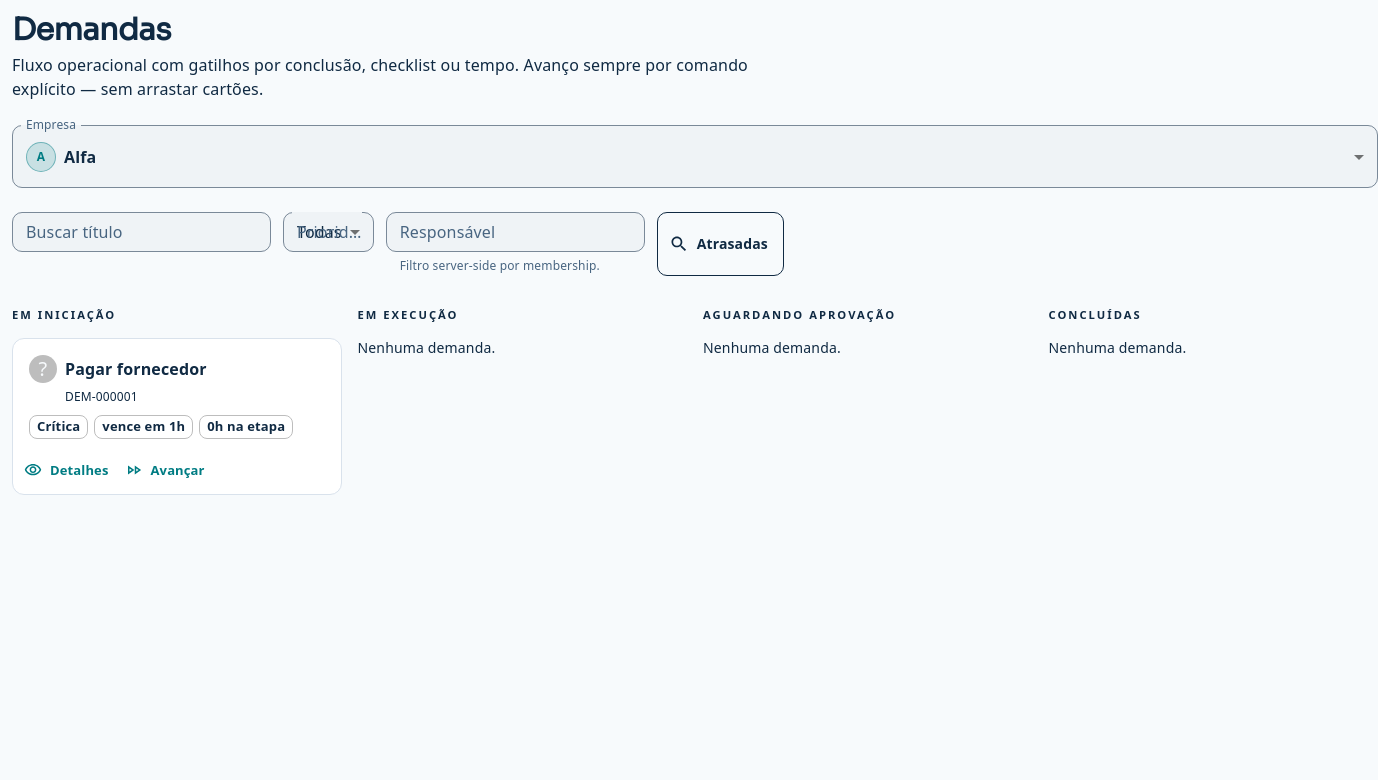
Test: DemandasPage › applies the full conflict snapshot so the card moves to the server stage
Expected: the heading "Pagar fornecedor" is shown, [65,358,207,380]
Step 1. Click the button "Avançar" → point(166, 470), box [122,455,210,486]
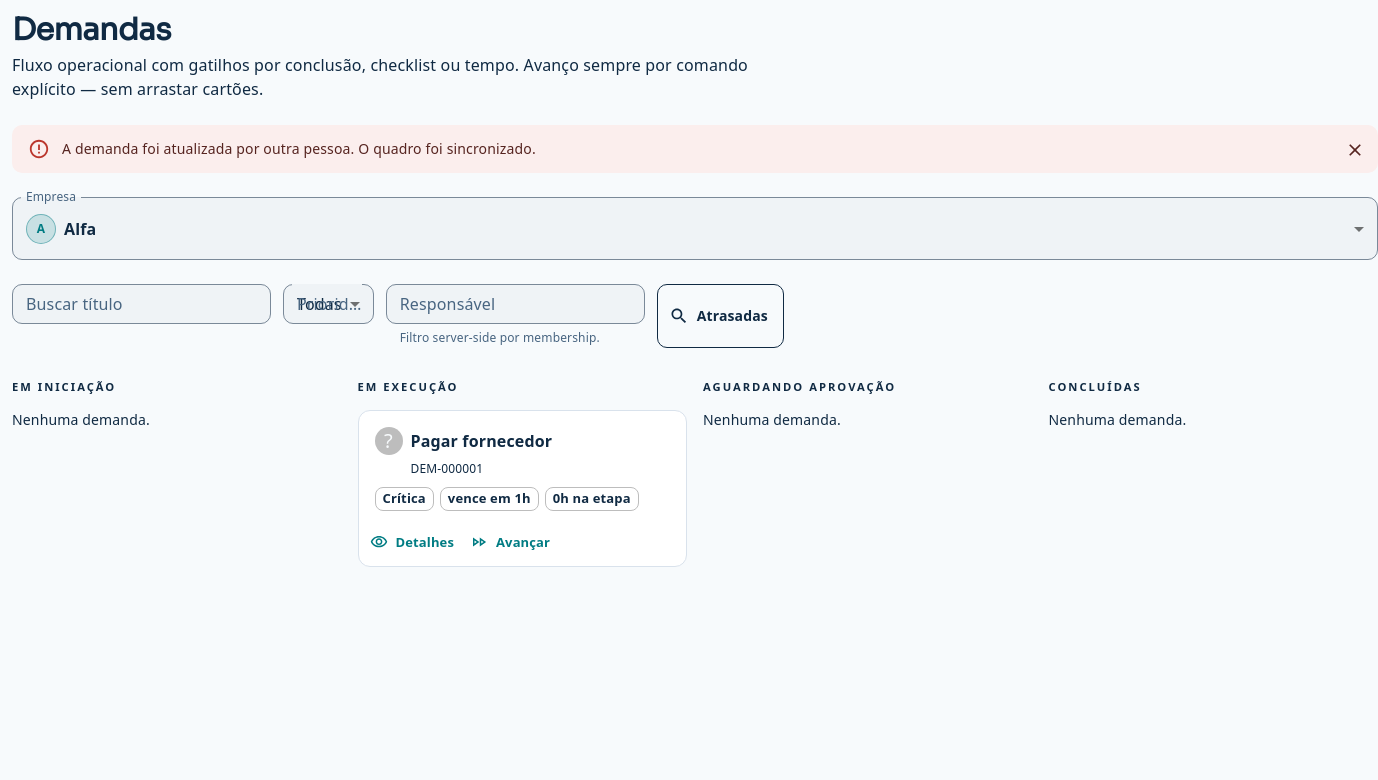
Expected: the heading "Pagar fornecedor" is shown, [410,430,552,452]
Expected: the text "atualizada por outra pessoa" is shown, [62,139,536,158]
